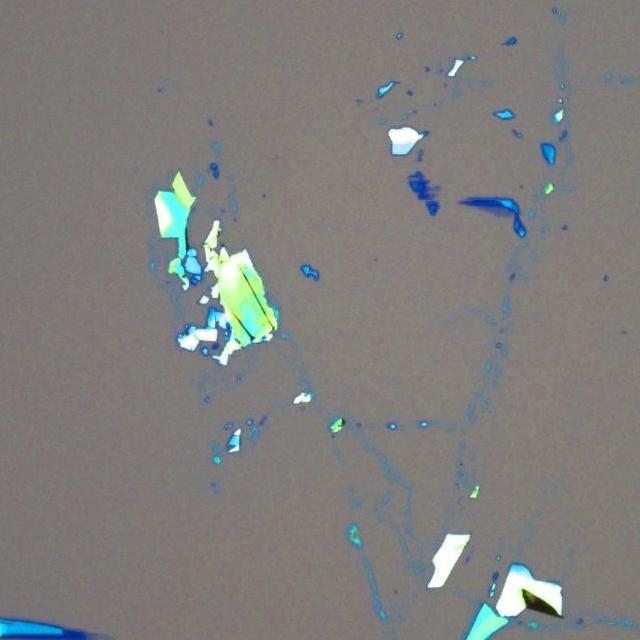monolayer-eWW4: (479, 205, 513, 218), (84, 630, 113, 640)
